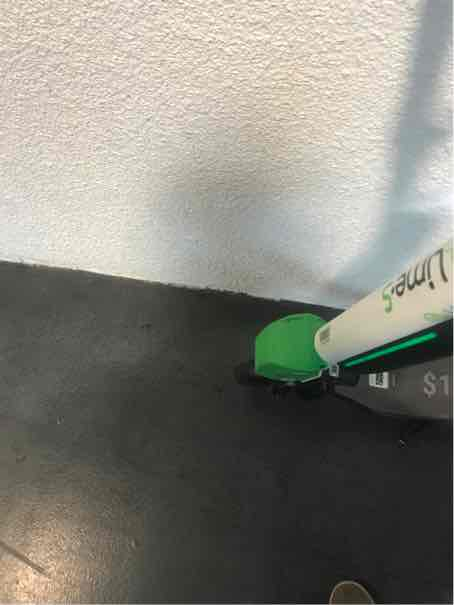scooter: (219, 0, 454, 446)
